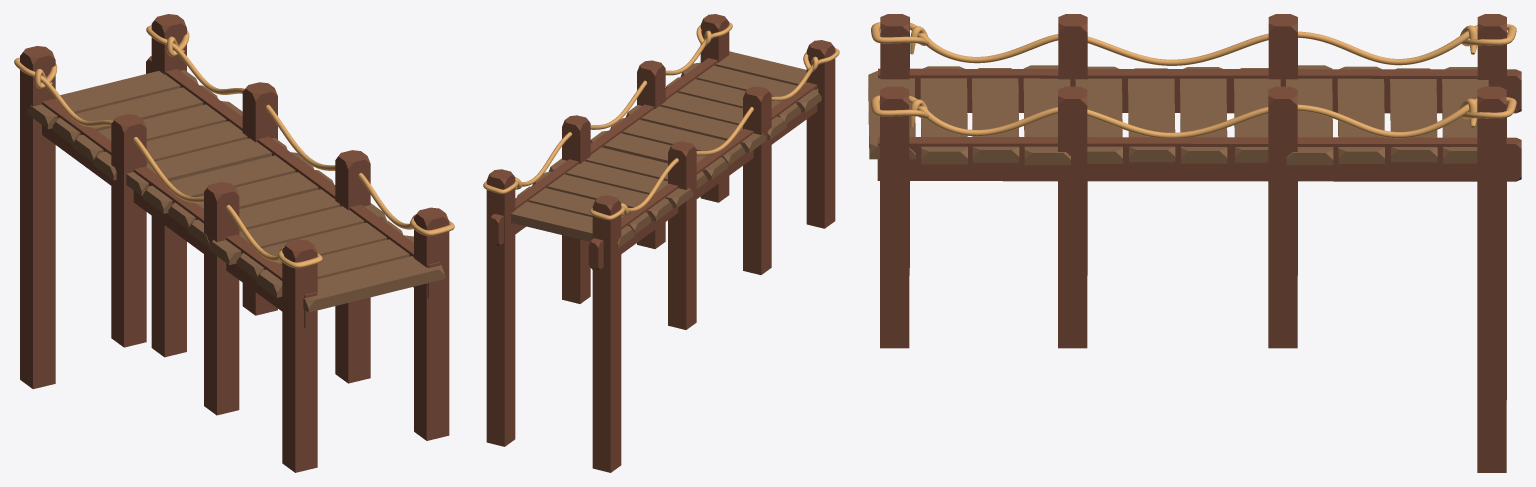
File: port-deck.fbx
The picture shows the model from 3 angles, left to right: view 1: azimuth 30°, elevation 25°; view 2: azimuth 150°, elevation 25°; view 3: azimuth 270°, elevation 25°; orthographic projection. The views are drawn at different scales.
Visible parts, largest first — view 1: iskele-alt.005; view 2: iskele-alt.005; view 3: iskele-alt.005.
Boxes of the visible parts, x1,y1,x2,y2 form: iskele-alt.005: (14, 14, 454, 472); iskele-alt.005: (483, 14, 839, 472); iskele-alt.005: (868, 14, 1521, 472).
Bounding box in the file's own units: 209 × 394 × 624.
